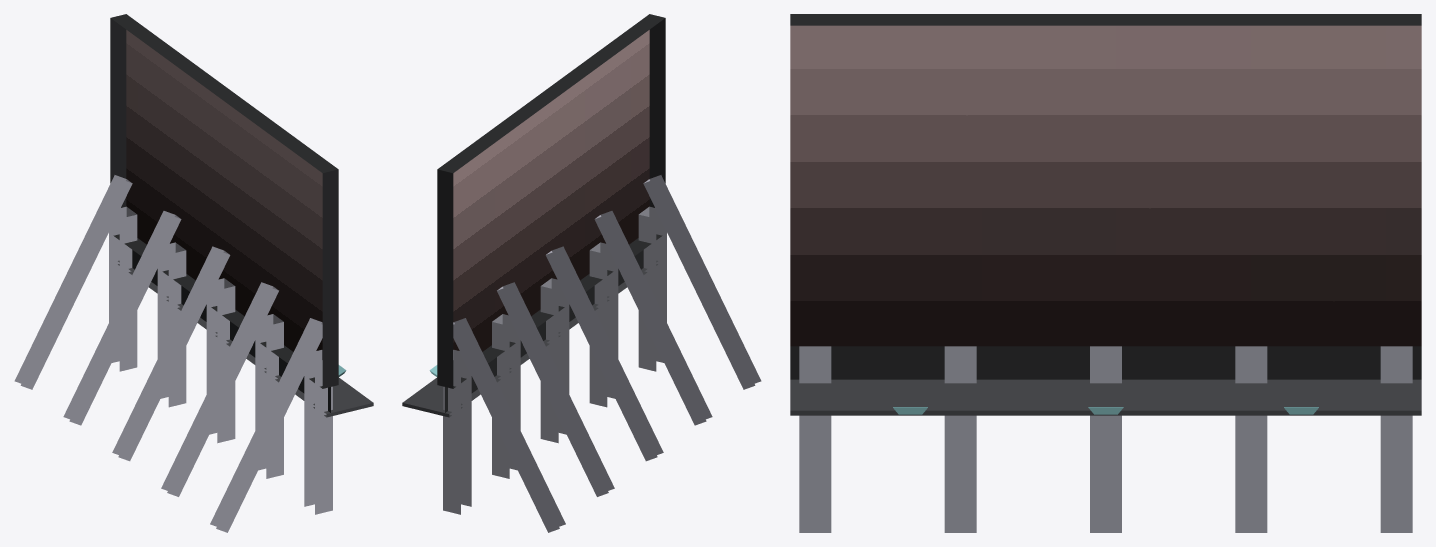
Rendered from BillBoard_BM.fbx.
The picture shows the model from 3 angles, left to right: view 1: azimuth 30°, elevation 25°; view 2: azimuth 150°, elevation 25°; view 3: azimuth 270°, elevation 25°; orthographic projection. The views are drawn at different scales.
Parts seen in each view (by area): view 1: BillBoard_BM; view 2: BillBoard_BM; view 3: BillBoard_BM.
Part boxes in pixels (x1,y1,x2,y2): BillBoard_BM: [14, 14, 373, 532]; BillBoard_BM: [402, 14, 761, 532]; BillBoard_BM: [790, 14, 1421, 532].
Size of the model in its own units: 951 by 1952 by 2193.
